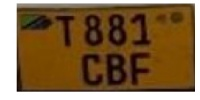T: (54, 13, 75, 48)
